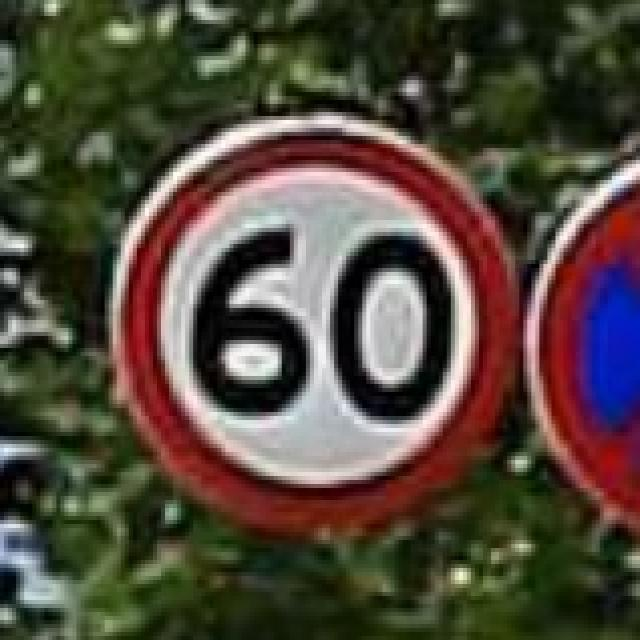Speed Limit -60-: (188, 220, 461, 430)
